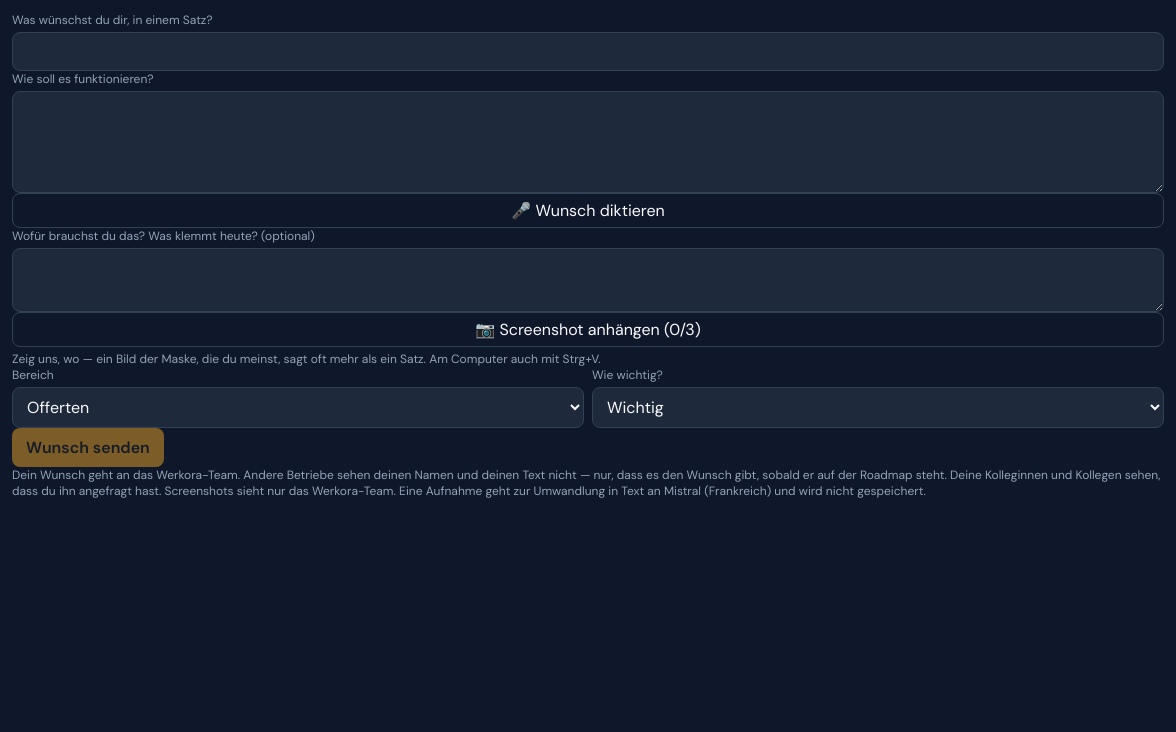
Scenario: WishForm › zeigt ähnliche Features und unterstützt statt neu einzureichen
In the field labelled "Was wünschst du dir, in einem Satz?": (588, 52) left=12, top=32, right=1164, bottom=71, type "Offerte Vorlage"
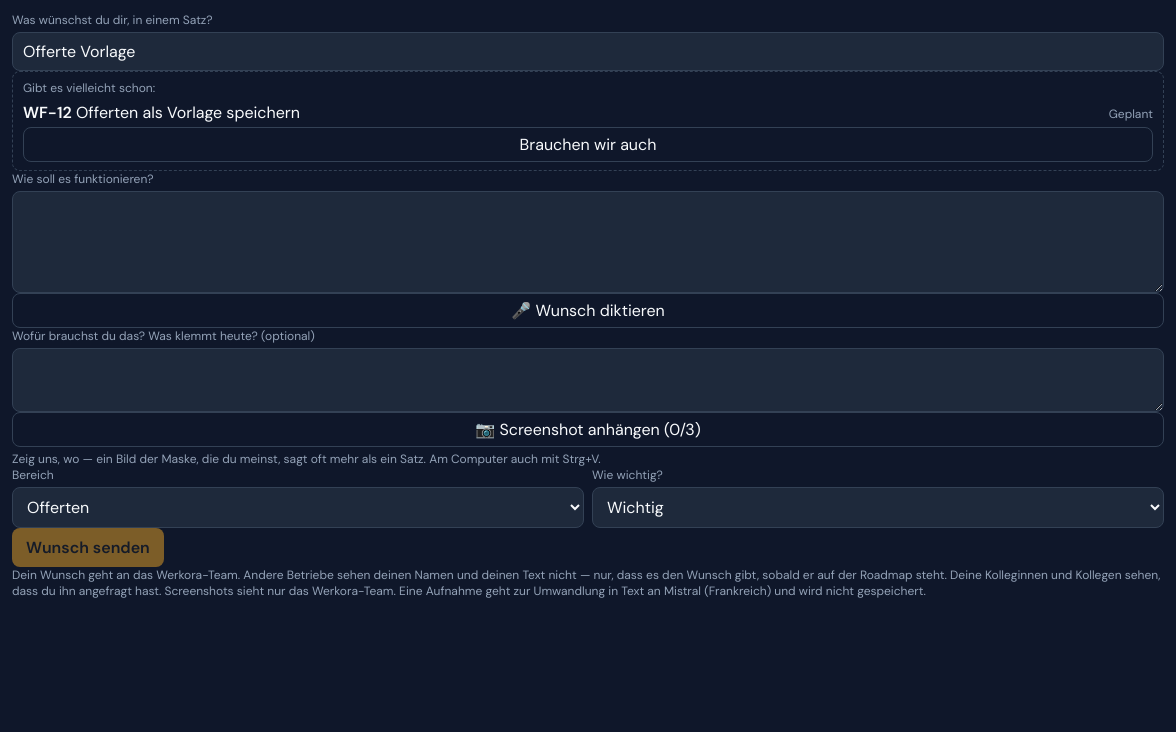
Now the text "WF-12 Offerten als Vorlage speichern" is shown, box left=23, top=102, right=300, bottom=123
Click the button "Brauchen wir auch": (588, 144) left=23, top=127, right=1153, bottom=162
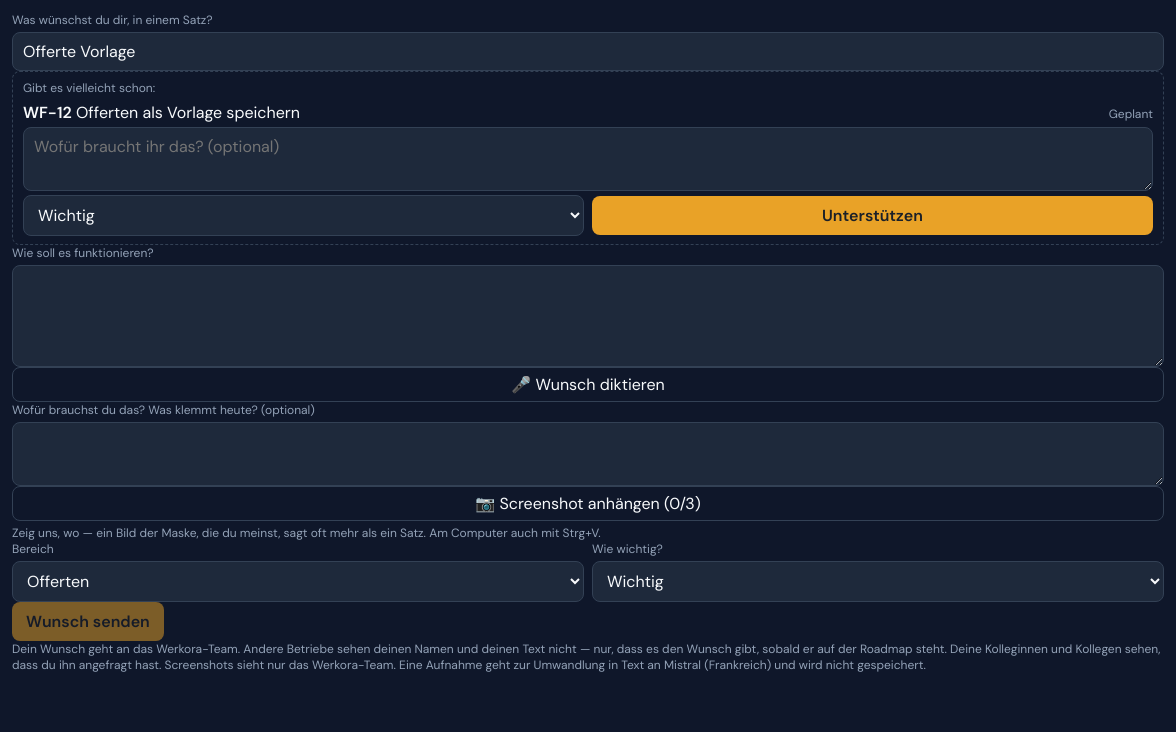
In the text box with placeholder "Wofür braucht ihr das? (optional)": (588, 159) left=23, top=127, right=1153, bottom=191, type "Für Bäder"
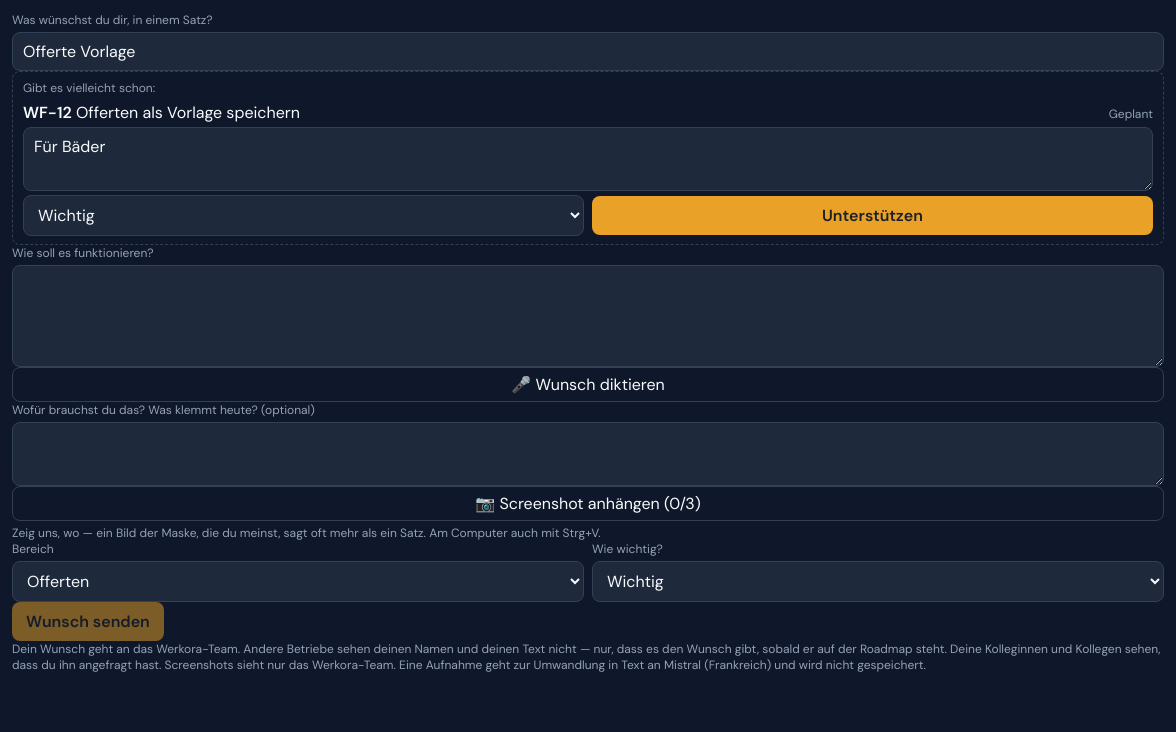
Click the button "Unterstützen": (872, 216) left=592, top=196, right=1153, bottom=235
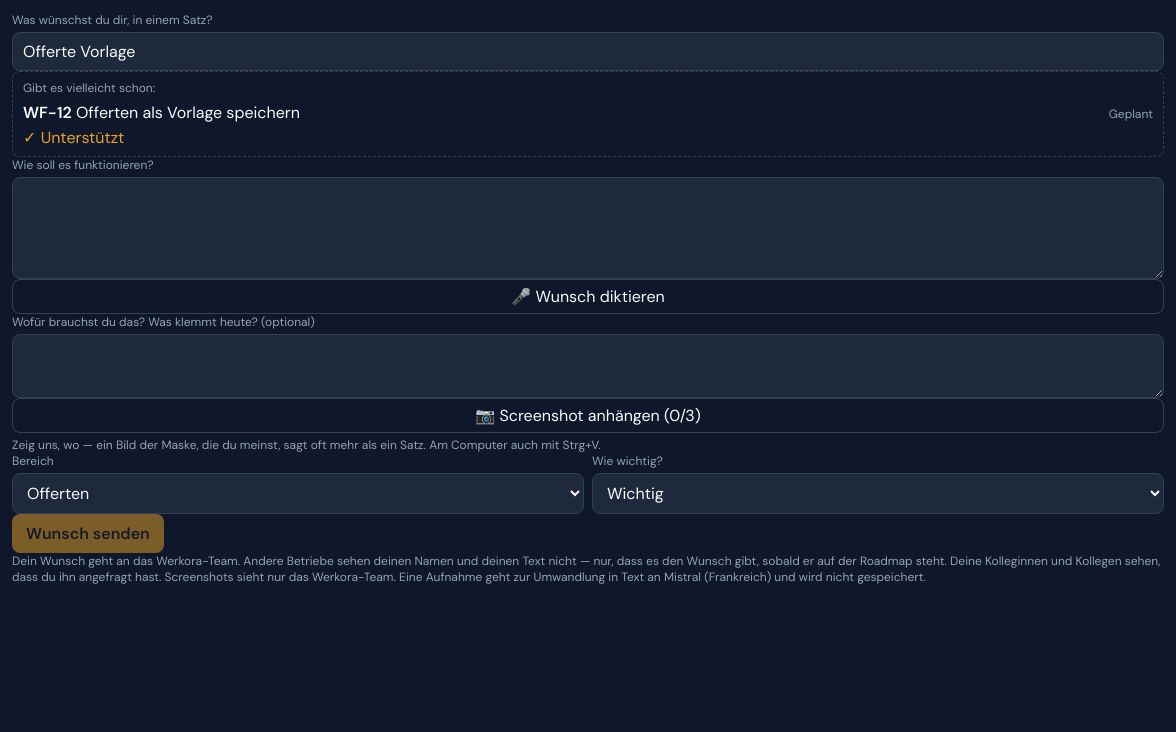
Now the text "✓ Unterstützt" is shown, box left=23, top=127, right=124, bottom=148
